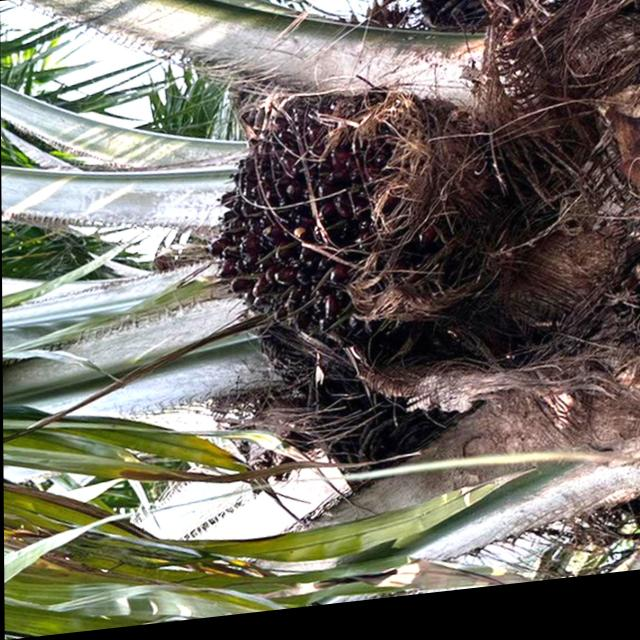ripe: (196, 80, 459, 385)
